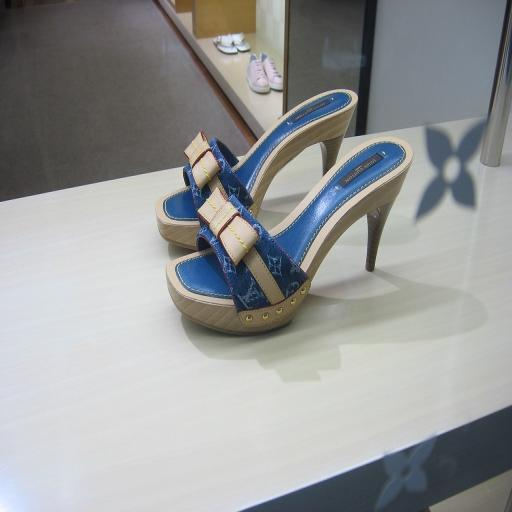heels: (166, 138, 412, 335), (156, 90, 358, 250)
